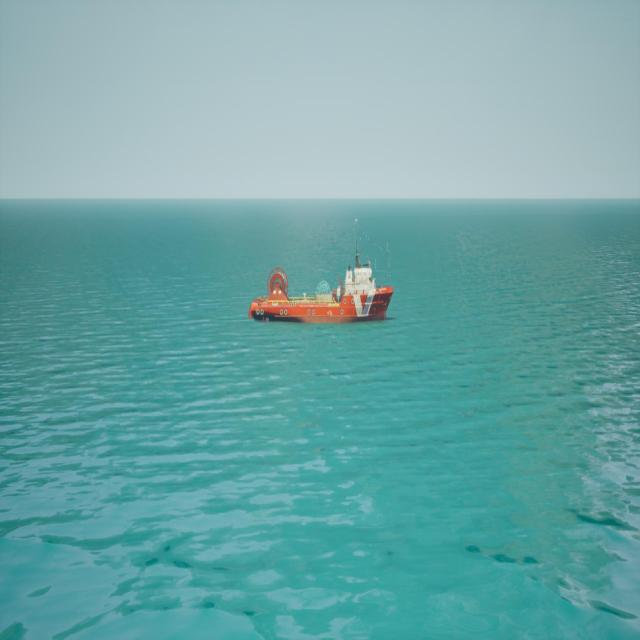tug boat: (248, 219, 396, 325)
